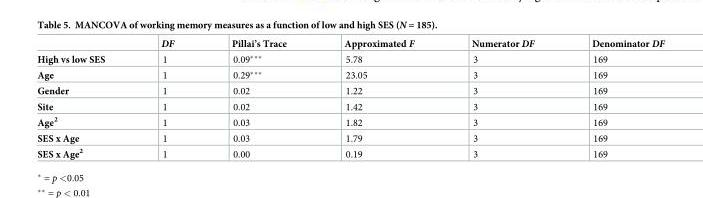table: (36, 36, 663, 158)
table column: (314, 36, 442, 158), (442, 36, 562, 158), (202, 36, 314, 158), (562, 36, 663, 158), (36, 36, 132, 158), (132, 36, 202, 158)
table column header: (36, 36, 663, 51)
table row: (36, 66, 663, 83), (36, 113, 663, 130), (36, 36, 663, 51), (36, 51, 663, 66), (36, 83, 663, 98), (36, 98, 663, 113), (36, 130, 663, 145), (36, 145, 663, 158)
